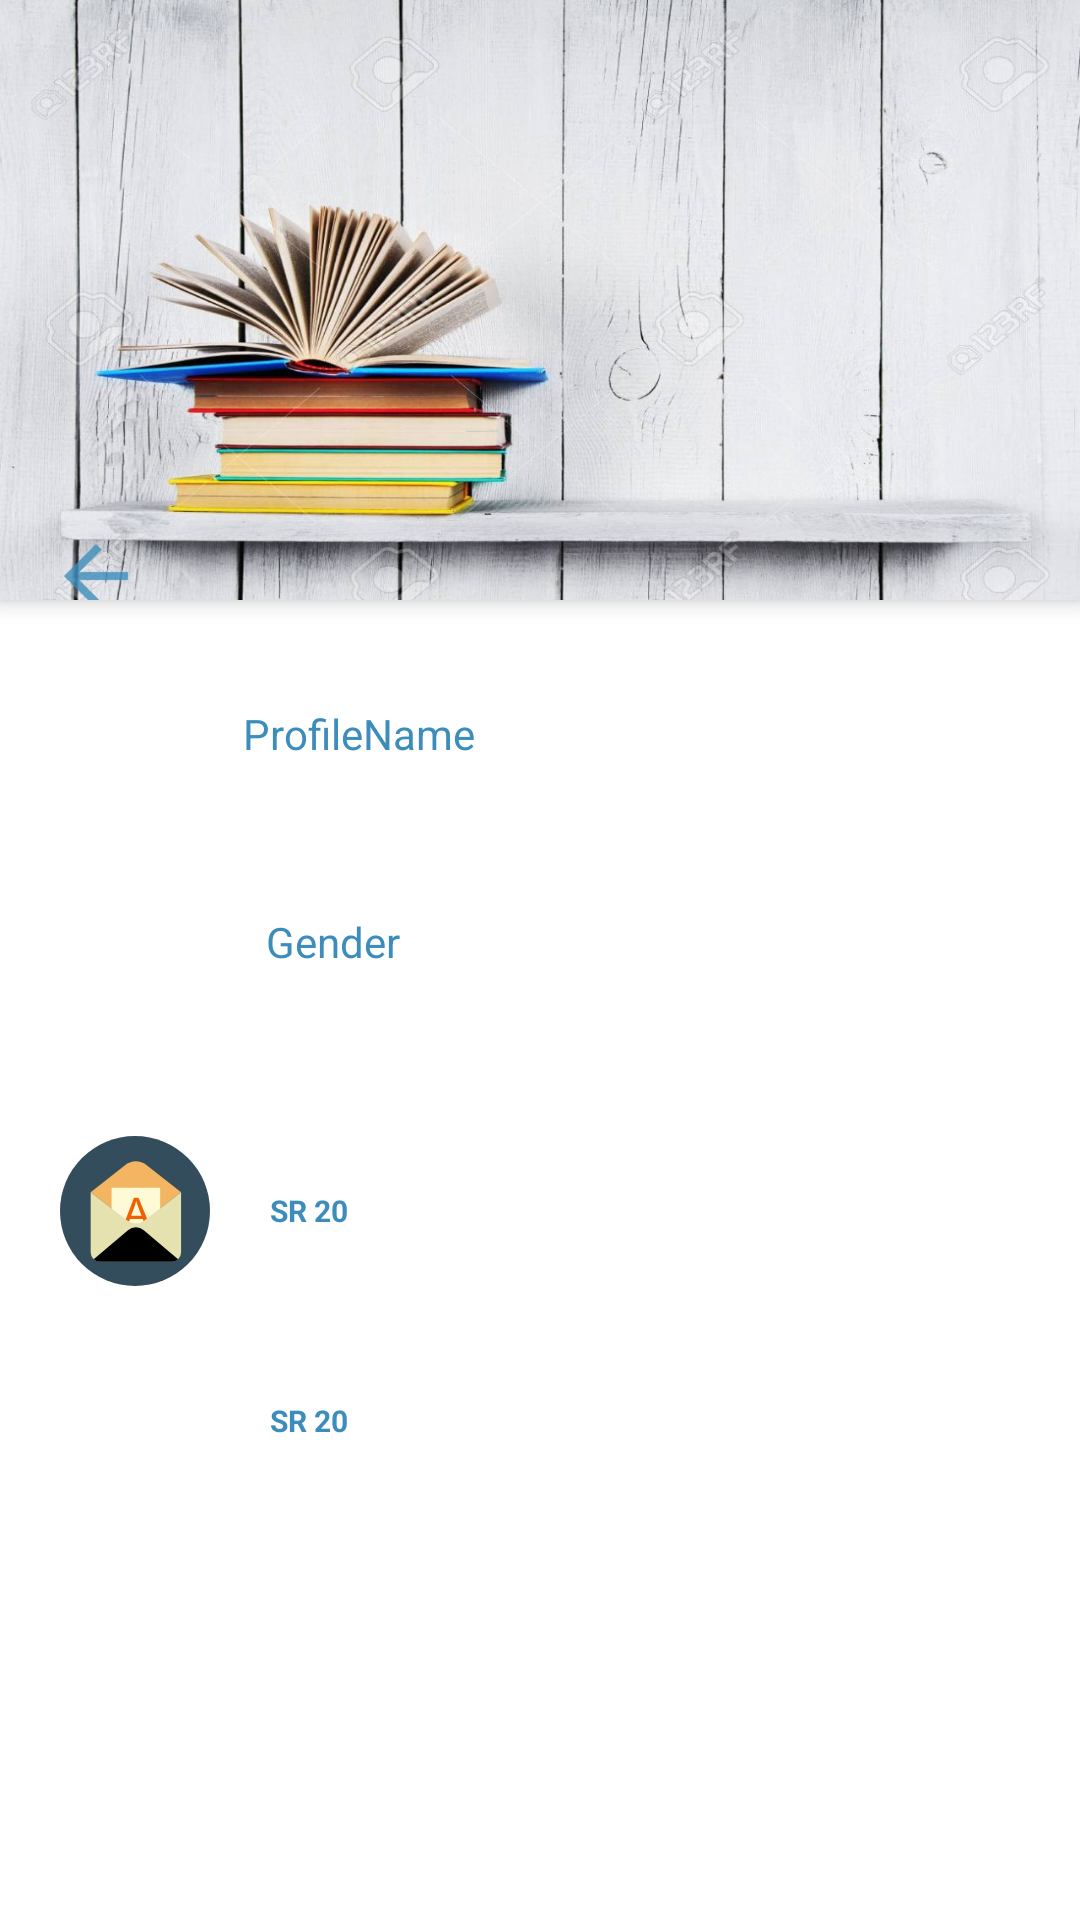

Where to tap for icons on this 1080px×1920px app screen, as [x,y]:
email: [135,1211]
